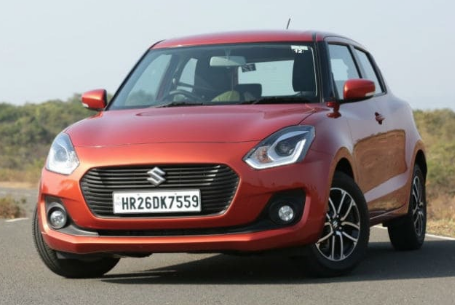car: (31, 27, 429, 281)
